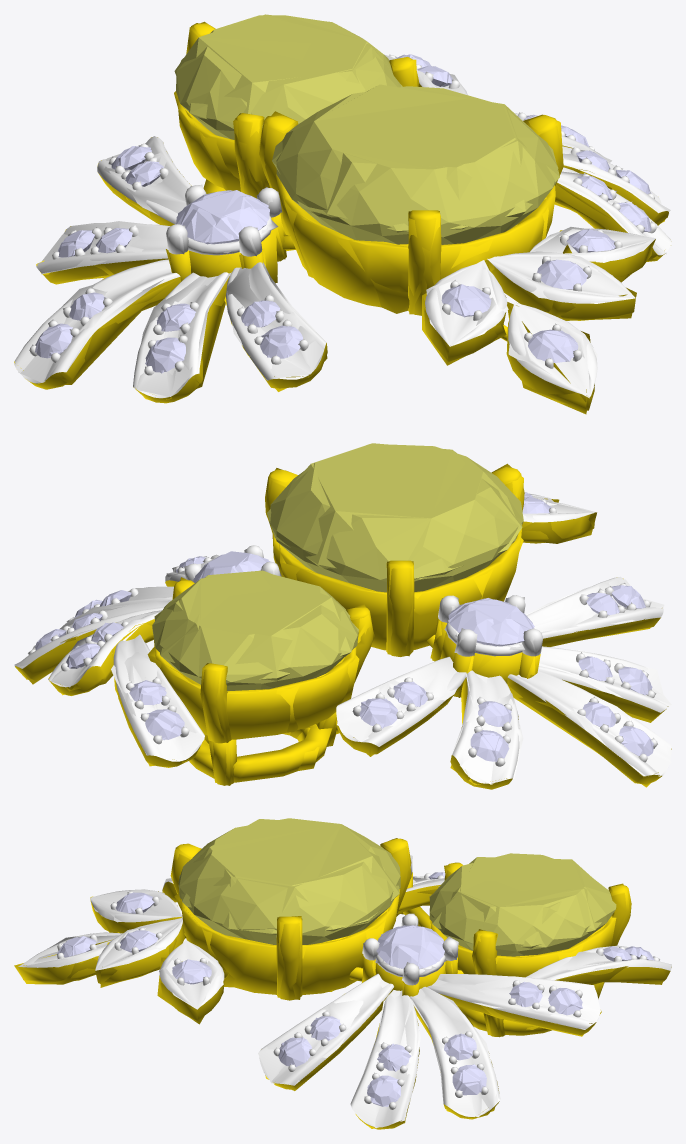
File: DPN-D000284428_hub.glb
3 views of the same model, one above another, from view 1: azimuth 30°, elevation 25°; view 2: azimuth 150°, elevation 25°; view 3: azimuth 270°, elevation 25° (orthographic). The views are drawn at different scales.
Parts seen in each view (by area): view 1: highPolyMesh, lowPolyMesh; view 2: highPolyMesh, lowPolyMesh; view 3: highPolyMesh, lowPolyMesh.
Part boxes in pixels (<box>): highPolyMesh: <box>14,15,671,410</box>; lowPolyMesh: <box>14,14,670,414</box>; highPolyMesh: <box>15,444,671,789</box>; lowPolyMesh: <box>14,443,671,787</box>; highPolyMesh: <box>18,818,671,1129</box>; lowPolyMesh: <box>14,819,670,1128</box>.
Size of the model in its own units: 0.0227 by 0.00724 by 0.025.
